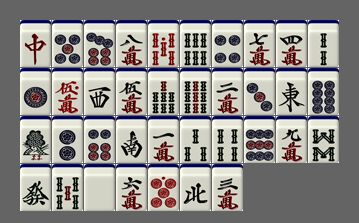0m: (52, 68, 83, 115)
0p: (148, 164, 179, 211)
0s: (148, 20, 179, 67)
1m: (148, 116, 179, 163)
1p: (20, 68, 51, 115)
1s: (20, 116, 51, 163)
1z: (276, 68, 307, 115)
2m: (212, 68, 243, 115)
2p: (52, 116, 83, 163)
2s: (308, 20, 339, 67)
2z: (116, 116, 147, 163)
3m: (212, 164, 243, 211)
3p: (244, 68, 275, 115)
3s: (180, 116, 211, 163)
3z: (84, 68, 115, 115)
4m: (276, 20, 307, 67)
4p: (212, 20, 243, 67)
4s: (212, 116, 243, 163)
4z: (180, 164, 211, 211)
5m: (116, 68, 147, 115)
5p: (52, 20, 83, 67)
5s: (52, 164, 83, 211)
5z: (84, 164, 115, 211)
6m: (116, 164, 147, 211)
6p: (84, 116, 115, 163)
6s: (180, 20, 211, 67)
6z: (20, 164, 51, 211)
7m: (244, 20, 275, 67)
7p: (84, 20, 115, 67)
7s: (148, 68, 179, 115)
7z: (20, 20, 51, 67)
8m: (116, 20, 147, 67)
8p: (308, 68, 339, 115)
8s: (308, 116, 339, 163)
9m: (276, 116, 307, 163)
9p: (244, 116, 275, 163)
9s: (180, 68, 211, 115)
